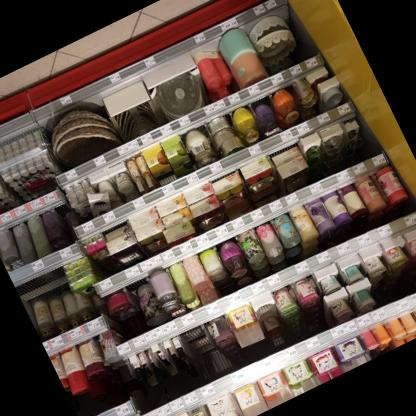empty_space: (15, 261, 70, 306)
